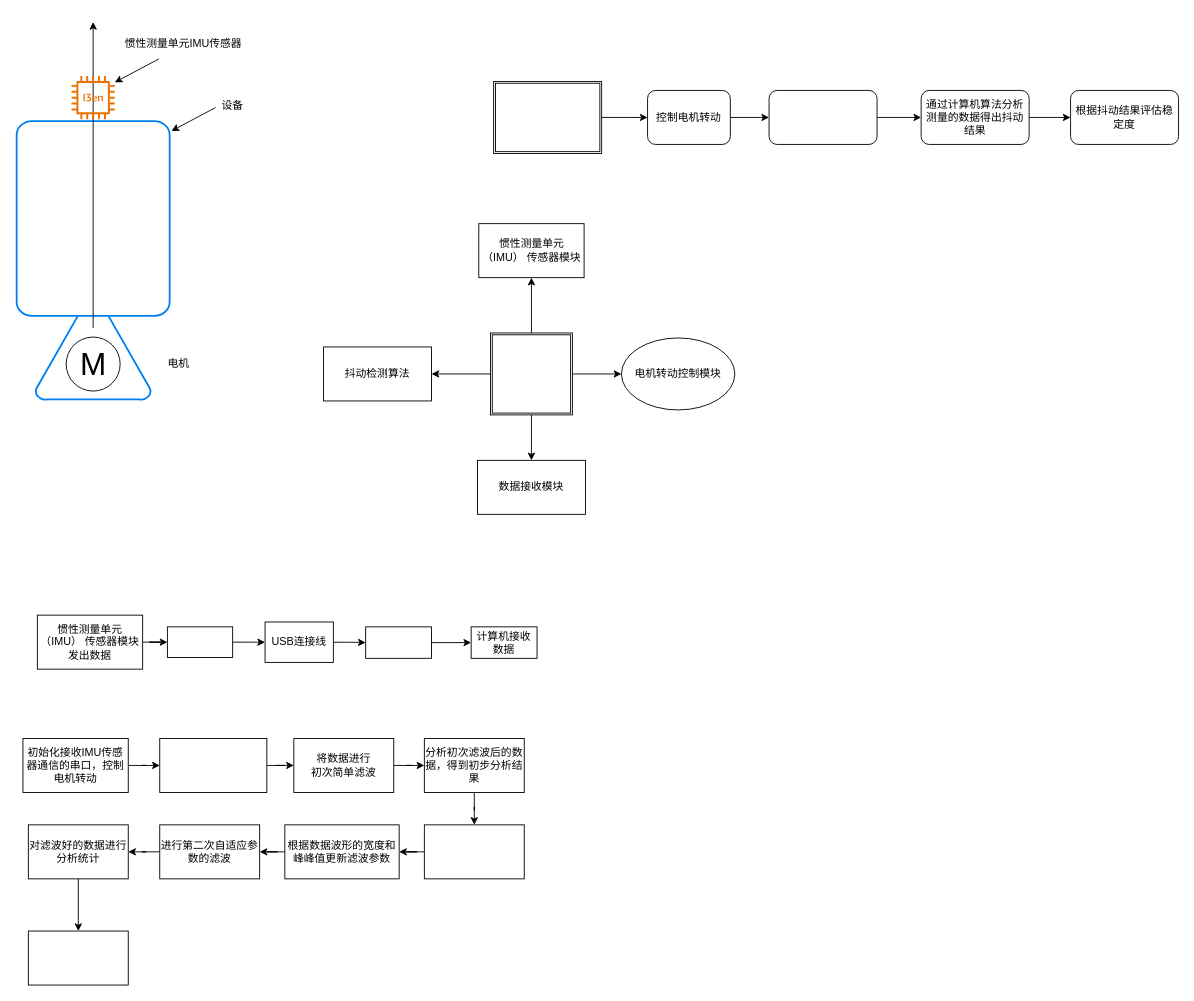
This 1194x1001 diagram has some shape labels left out. The shapes that lost their labels are listed below. From the top down, each one's box as (x1, y1, x2, y2) in pixels, then its label:
(493, 81, 602, 153): 装配好电机 和IMU传感器
(768, 90, 877, 144): 转动过程中实时测量加速度、角速度、姿态角
(15, 120, 170, 400): 电机轴向
(490, 332, 572, 415): 结构设计安装
(166, 626, 233, 657): 串口转USB
(365, 626, 432, 658): USB转串口
(159, 738, 267, 792): 接收IMU测量姿态角数据，并算出运行差值数据。
(423, 824, 524, 879): 根据初步分析结果确定数据波形的宽度和峰峰值。
(27, 930, 128, 985): 得出电机抖动 分析结果
